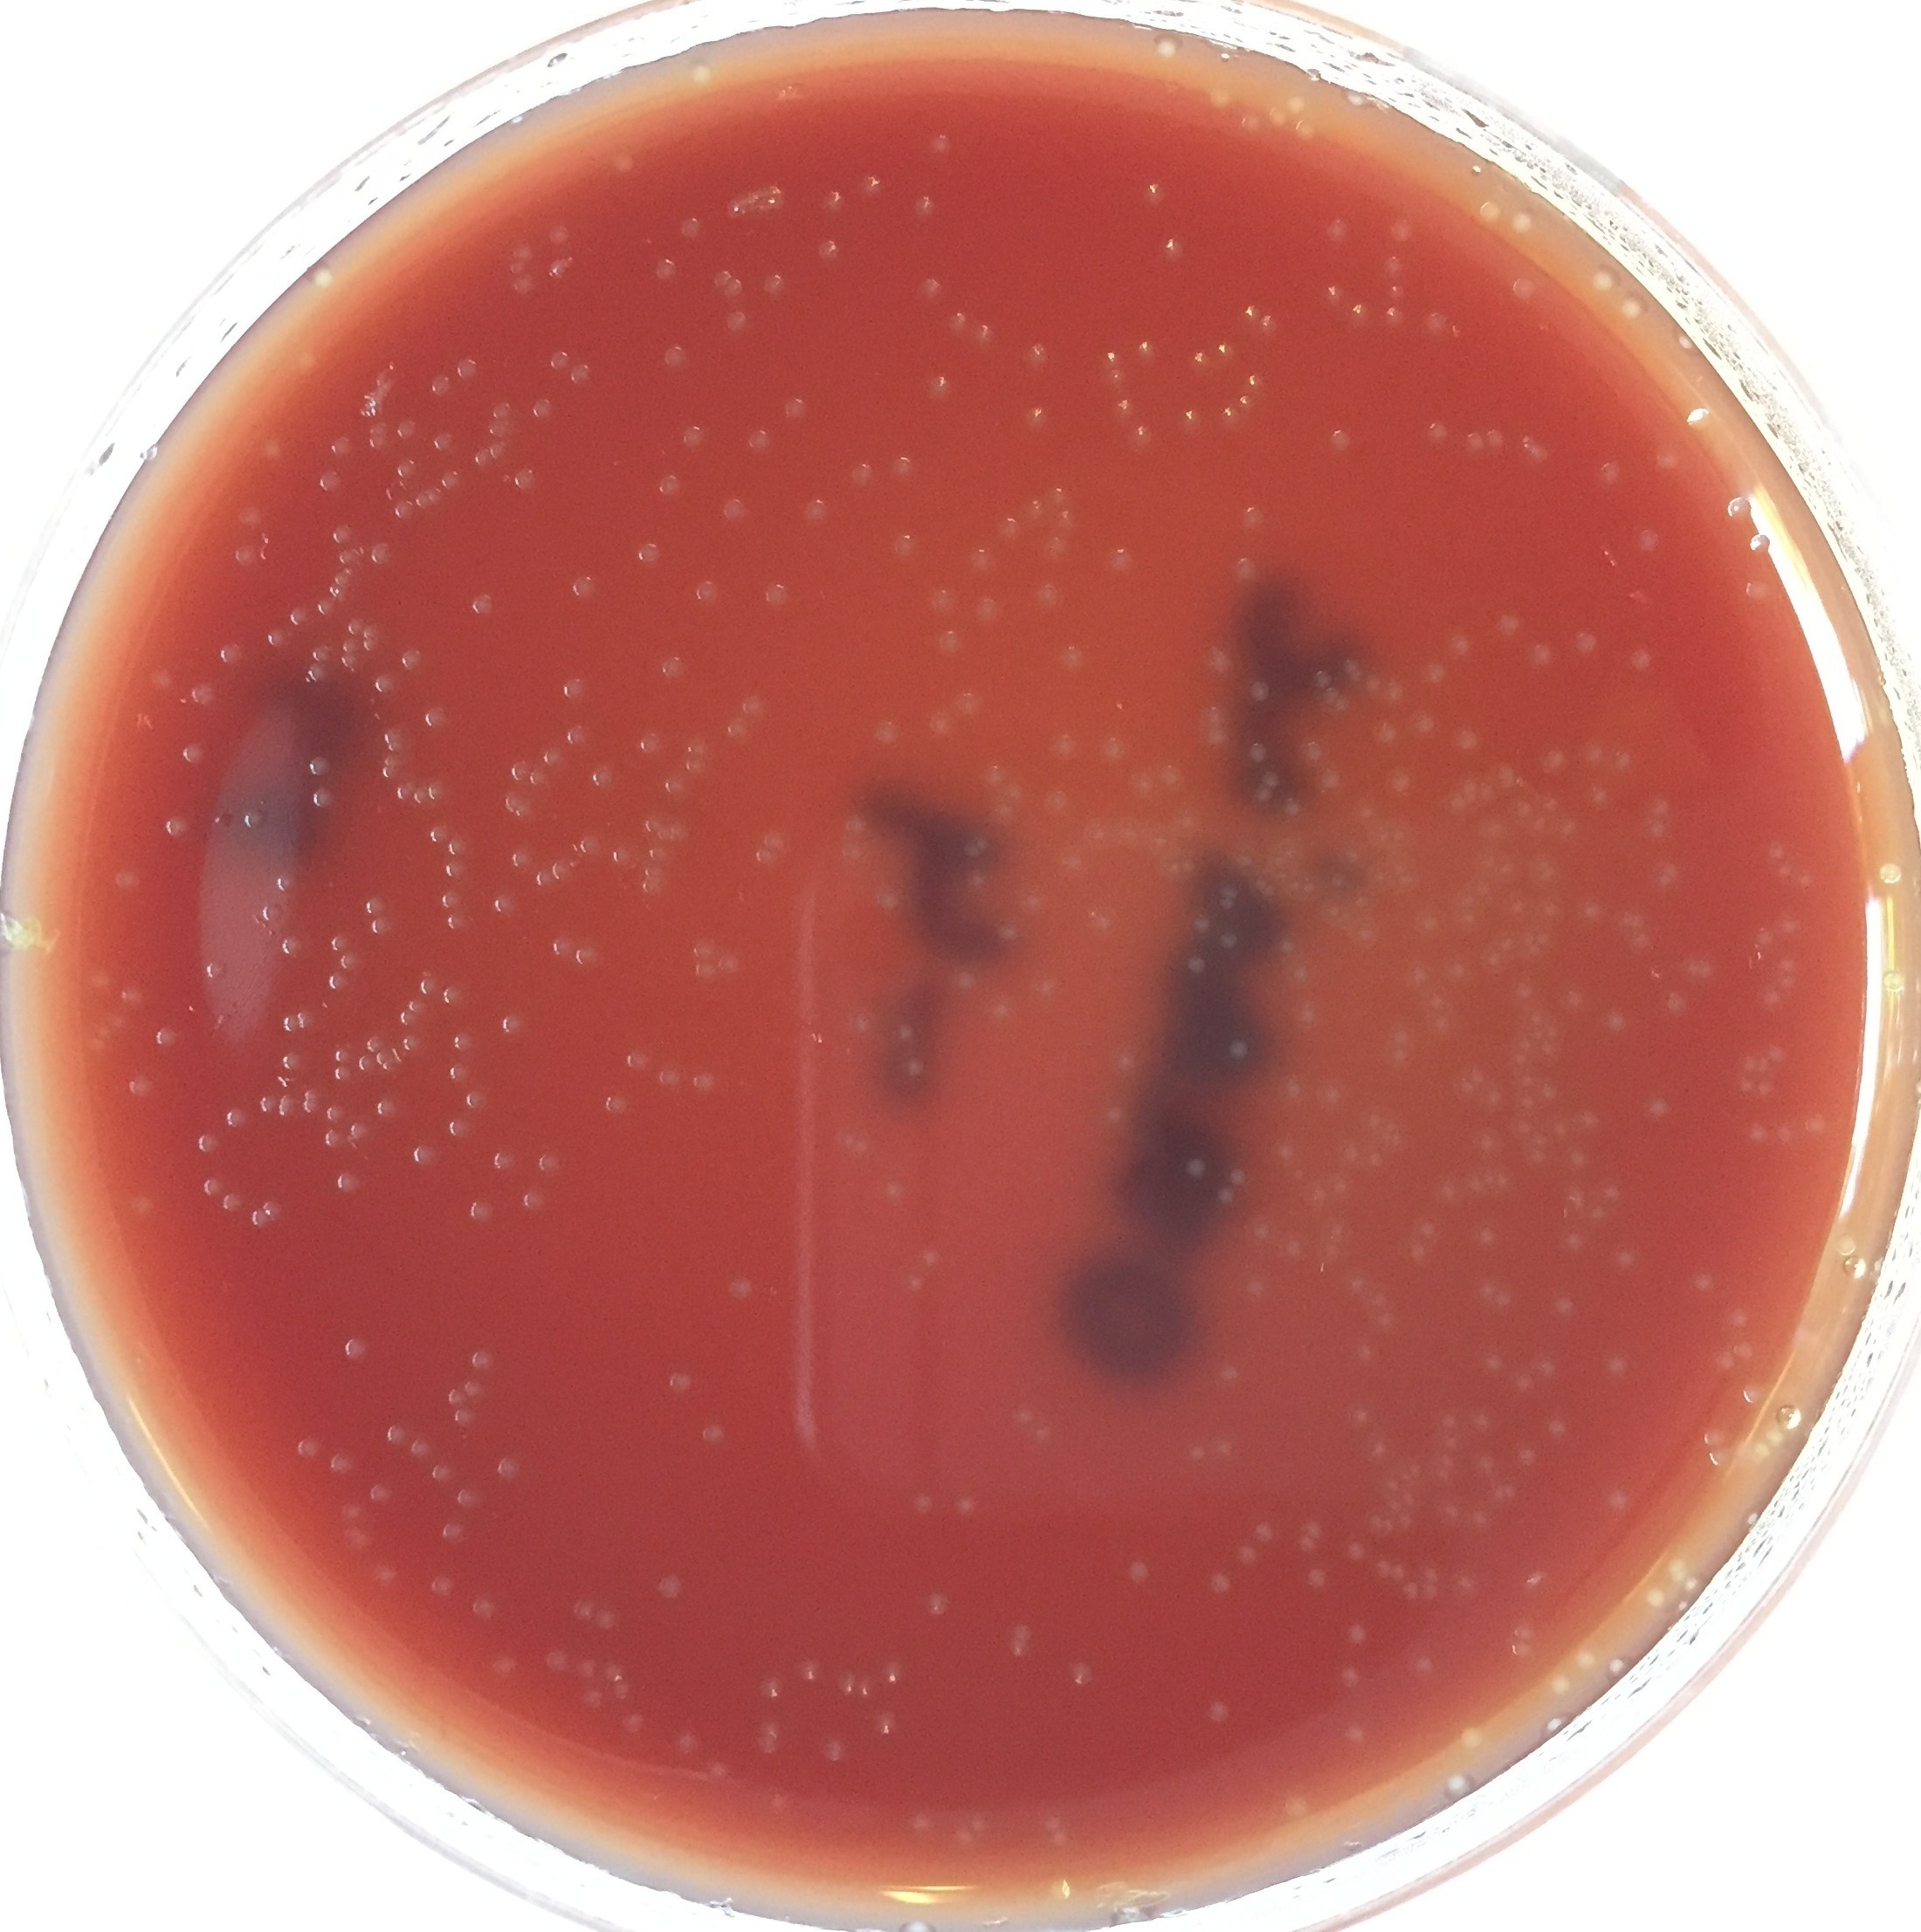sp10: (596, 137, 646, 192), (1048, 846, 1096, 882), (1040, 781, 1078, 822), (1534, 737, 1574, 776), (1481, 1478, 1522, 1517), (1573, 894, 1611, 933), (748, 1717, 786, 1756), (1488, 757, 1532, 790), (503, 787, 542, 823), (1041, 737, 1089, 767), (1200, 699, 1233, 741), (1444, 774, 1486, 808), (1530, 848, 1564, 890), (1288, 998, 1323, 1036), (128, 1184, 158, 1228), (756, 185, 793, 220), (1743, 574, 1782, 607), (716, 190, 749, 229), (1451, 1566, 1481, 1608), (141, 665, 176, 700), (1522, 934, 1560, 966), (1312, 1073, 1346, 1109), (1756, 984, 1787, 1021), (955, 867, 994, 897), (1620, 933, 1659, 962), (120, 975, 148, 1015), (1351, 915, 1384, 948), (1682, 952, 1713, 987), (763, 1782, 795, 1818), (1580, 739, 1610, 776), (1506, 977, 1543, 1006), (959, 834, 999, 860), (1414, 906, 1448, 938), (1288, 876, 1323, 906), (1277, 1072, 1307, 1107), (1161, 855, 1203, 880), (1300, 1513, 1325, 1555), (1082, 818, 1112, 852), (1745, 918, 1775, 952), (1617, 904, 1650, 934), (1318, 896, 1348, 929), (1351, 1339, 1381, 1372), (1458, 1721, 1492, 1751), (162, 811, 195, 841), (756, 1666, 785, 1701), (1420, 1562, 1443, 1605), (1247, 873, 1279, 903), (1648, 859, 1680, 889), (1504, 890, 1534, 922), (1328, 1174, 1358, 1205), (466, 1197, 496, 1228), (793, 1654, 825, 1684), (1022, 403, 1054, 433), (1105, 547, 1136, 577), (1589, 264, 1618, 296), (1685, 405, 1717, 435), (1494, 611, 1525, 640), (1441, 955, 1474, 984), (1406, 709, 1439, 737), (1203, 642, 1231, 676), (84, 957, 111, 992), (839, 808, 869, 838), (873, 885, 902, 915), (1583, 787, 1613, 816), (1698, 1418, 1727, 1448), (725, 1272, 755, 1302), (763, 579, 793, 609), (741, 692, 771, 721), (1325, 686, 1353, 718), (707, 1758, 735, 1789), (851, 1673, 880, 1705), (1506, 209, 1538, 238), (1033, 582, 1066, 609), (975, 760, 1010, 785), (1613, 746, 1643, 774), (1465, 1402, 1495, 1431), (922, 1589, 952, 1617), (1340, 1619, 1370, 1647), (127, 1072, 157, 1100), (927, 371, 955, 401), (568, 572, 598, 600), (1154, 33, 1182, 63), (1267, 102, 1296, 130), (1511, 273, 1539, 303), (1615, 296, 1645, 324), (1634, 524, 1662, 554), (1726, 493, 1754, 523), (1446, 632, 1476, 660), (1216, 878, 1242, 910), (1114, 825, 1140, 857), (987, 799, 1019, 825), (1099, 1100, 1126, 1131), (1560, 1181, 1587, 1212), (1277, 1233, 1304, 1265), (890, 533, 922, 560), (1126, 424, 1158, 450), (1384, 769, 1416, 795), (1518, 440, 1552, 465), (1648, 794, 1676, 822), (1205, 1698, 1233, 1726), (1282, 1795, 1311, 1823), (1024, 341, 1052, 370), (925, 709, 953, 737), (1406, 959, 1432, 989), (1508, 1638, 1538, 1665), (1546, 1672, 1576, 1698), (216, 640, 246, 667), (1573, 630, 1603, 656), (1742, 1378, 1768, 1408), (1173, 809, 1198, 841), (1777, 910, 1801, 941), (1777, 959, 1801, 991), (1469, 1087, 1506, 1109), (1325, 1218, 1356, 1242), (1706, 1441, 1731, 1473), (544, 255, 575, 280), (1156, 236, 1187, 260), (1479, 816, 1506, 845), (1539, 787, 1567, 813), (1384, 1119, 1413, 1145), (1272, 1135, 1298, 1163), (880, 1658, 906, 1686), (667, 1371, 695, 1397), (181, 739, 209, 765), (658, 472, 686, 498), (292, 348, 318, 377), (721, 496, 749, 523), (1179, 406, 1205, 435), (1323, 426, 1351, 452), (1041, 535, 1070, 561), (953, 690, 980, 718), (1478, 201, 1506, 227), (1128, 769, 1156, 795), (1457, 727, 1485, 753), (1446, 1070, 1471, 1100), (331, 1448, 355, 1478), (385, 1420, 410, 1450), (830, 1668, 855, 1698), (906, 1809, 936, 1833), (362, 892, 392, 917), (190, 681, 220, 706), (651, 255, 681, 280), (904, 1270, 934, 1295), (1520, 1570, 1550, 1594), (1376, 1313, 1399, 1344), (1145, 823, 1166, 857), (1472, 876, 1499, 903), (1562, 985, 1589, 1012), (542, 1645, 568, 1672), (820, 1737, 846, 1763), (873, 1709, 899, 1735), (781, 398, 807, 424), (746, 426, 772, 452), (1224, 1036, 1251, 1063), (1277, 794, 1304, 820), (1610, 1244, 1636, 1270), (1645, 1094, 1671, 1121), (1803, 1109, 1830, 1135), (1525, 813, 1550, 841), (1362, 1107, 1386, 1135), (1300, 1182, 1325, 1211), (1474, 1450, 1499, 1478), (600, 1659, 628, 1684), (1068, 1659, 1092, 1687), (1233, 1543, 1261, 1568), (1444, 1768, 1472, 1793), (911, 1492, 939, 1517), (860, 172, 885, 201), (663, 653, 688, 681), (1386, 216, 1414, 241), (1110, 396, 1138, 421), (1055, 646, 1084, 670), (1594, 459, 1622, 484), (904, 1056, 932, 1080), (1529, 642, 1557, 667), (1342, 1538, 1370, 1562), (1435, 1503, 1464, 1527), (1326, 866, 1349, 896), (1471, 1130, 1501, 1153), (1404, 1240, 1434, 1263), (427, 1573, 457, 1596), (841, 843, 867, 867), (1497, 857, 1522, 883), (1474, 945, 1499, 971), (343, 1336, 369, 1360), (373, 1562, 398, 1589), (491, 1654, 517, 1679), (656, 1575, 683, 1599), (1126, 1561, 1152, 1585), (280, 933, 306, 957), (241, 804, 267, 829), (318, 470, 345, 494), (394, 456, 420, 480), (512, 466, 537, 493), (491, 398, 515, 424), (917, 278, 941, 304), (802, 496, 827, 523), (890, 454, 917, 479), (871, 723, 897, 748), (1207, 83, 1233, 107), (1242, 303, 1267, 329), (1214, 405, 1240, 429), (1238, 505, 1265, 530), (1047, 486, 1071, 512), (1054, 507, 1078, 533), (1423, 311, 1448, 338), (1425, 419, 1450, 445), (1747, 530, 1771, 556), (996, 918, 1022, 943), (1186, 952, 1212, 977), (1627, 644, 1654, 669), (1231, 556, 1258, 581), (1291, 961, 1316, 987), (334, 545, 362, 568), (1339, 651, 1362, 679), (1645, 820, 1673, 843), (1541, 899, 1569, 922), (1495, 927, 1518, 955), (463, 1374, 486, 1402), (1340, 1661, 1363, 1689), (153, 1024, 181, 1047), (1238, 111, 1267, 134), (1460, 431, 1488, 454), (1652, 449, 1680, 472), (1112, 1049, 1140, 1072), (1318, 1240, 1346, 1263), (1284, 1163, 1314, 1184), (698, 574, 718, 605), (1476, 848, 1501, 873), (1365, 1288, 1390, 1313), (493, 1149, 517, 1174), (522, 1188, 547, 1212), (1031, 1422, 1055, 1446), (443, 984, 468, 1008), (399, 646, 424, 670), (237, 505, 262, 530), (681, 424, 705, 449), (693, 959, 718, 984), (1325, 218, 1349, 243), (1033, 973, 1057, 998), (1247, 679, 1272, 704), (1158, 764, 1182, 788), (1421, 662, 1446, 686), (1383, 679, 1407, 704), (1606, 1355, 1631, 1379), (1107, 732, 1129, 758), (1775, 862, 1798, 889), (1455, 910, 1481, 933), (1369, 869, 1391, 896), (1432, 1012, 1458, 1035), (259, 1198, 285, 1221), (412, 1142, 438, 1165), (368, 1482, 394, 1504), (969, 1811, 996, 1833), (1040, 1811, 1066, 1833), (1207, 1571, 1233, 1594), (1513, 1621, 1536, 1647), (1012, 1402, 1034, 1429), (500, 1014, 526, 1036), (308, 757, 334, 779), (591, 764, 614, 790), (723, 720, 749, 743), (658, 1066, 684, 1089), (1098, 348, 1124, 371), (1323, 282, 1346, 308), (850, 1010, 873, 1036), (1087, 911, 1114, 934), (1182, 1156, 1209, 1179), (1372, 720, 1395, 746), (1546, 1413, 1569, 1439), (1346, 836, 1367, 864), (257, 438, 285, 459), (753, 846, 783, 866), (382, 721, 405, 746), (1509, 797, 1532, 822), (1351, 795, 1376, 818), (1386, 1022, 1411, 1045), (1356, 1508, 1379, 1533), (195, 1133, 220, 1156), (223, 1107, 248, 1130), (336, 1170, 359, 1195), (537, 1151, 561, 1174), (405, 1436, 429, 1459), (456, 1487, 480, 1510), (610, 1679, 633, 1703), (700, 1422, 725, 1445), (259, 901, 283, 924), (369, 913, 392, 938), (551, 934, 575, 957), (573, 943, 598, 966), (552, 859, 575, 883), (610, 845, 635, 867), (234, 544, 257, 568), (331, 436, 355, 459), (549, 347, 572, 371), (313, 267, 338, 290), (913, 194, 936, 218), (971, 324, 994, 348), (693, 1070, 718, 1093), (1295, 116, 1319, 139), (1212, 341, 1237, 364), (1258, 313, 1281, 338), (1348, 303, 1372, 326), (1105, 366, 1128, 391), (1235, 392, 1258, 417), (1022, 498, 1047, 521), (953, 968, 976, 992), (1244, 1276, 1268, 1299), (1335, 1138, 1358, 1163), (1367, 1438, 1391, 1460), (1511, 1372, 1536, 1395), (1733, 1339, 1756, 1364), (1230, 850, 1256, 871), (1391, 823, 1413, 850), (1386, 1047, 1413, 1068), (494, 1457, 521, 1478), (575, 1654, 596, 1680), (542, 746, 568, 767), (454, 357, 480, 378), (663, 774, 690, 795), (1140, 185, 1166, 206), (1381, 306, 1407, 327), (1643, 1587, 1669, 1608), (892, 1022, 918, 1043), (1536, 1043, 1564, 1063), (1363, 1145, 1383, 1174), (1661, 991, 1684, 1014), (375, 1096, 398, 1119), (447, 1387, 470, 1409), (623, 1710, 646, 1733), (677, 1731, 700, 1754), (491, 892, 514, 915), (287, 605, 310, 628), (396, 417, 419, 440), (487, 438, 510, 461), (679, 216, 702, 239), (723, 311, 746, 334), (822, 190, 844, 213), (639, 732, 661, 755), (1286, 93, 1309, 116), (1242, 370, 1265, 392), (997, 517, 1020, 540), (966, 547, 989, 570), (938, 628, 960, 651), (1481, 428, 1504, 450), (1245, 739, 1268, 762), (1726, 1306, 1749, 1328), (1576, 1110, 1599, 1133), (1538, 1080, 1562, 1101), (1599, 1181, 1624, 1202), (297, 1436, 318, 1460), (1010, 1622, 1034, 1643), (1340, 1724, 1365, 1745), (510, 848, 535, 869), (114, 869, 139, 890), (471, 443, 493, 468), (533, 396, 554, 421), (853, 461, 874, 486), (563, 677, 588, 699), (765, 831, 790, 852), (1136, 340, 1161, 361), (1189, 348, 1210, 373), (975, 598, 999, 619), (1189, 911, 1214, 933), (1212, 1182, 1237, 1204), (1362, 670, 1383, 695), (1305, 1566, 1326, 1591), (1603, 1483, 1624, 1508), (1437, 1408, 1458, 1432), (1486, 1286, 1511, 1307), (1536, 1357, 1560, 1378), (1756, 1077, 1777, 1101), (1557, 815, 1583, 834), (1794, 873, 1821, 892), (276, 1093, 296, 1119), (1256, 1519, 1275, 1545), (310, 788, 336, 808), (373, 540, 392, 567), (818, 236, 837, 262), (625, 1050, 651, 1070), (1766, 836, 1787, 859), (1511, 1050, 1532, 1073), (1516, 1093, 1538, 1116), (222, 1191, 245, 1212), (281, 1050, 303, 1073), (452, 1031, 475, 1052), (471, 1350, 493, 1372), (431, 1462, 454, 1483), (595, 1608, 616, 1631), (1006, 1638, 1029, 1659), (1187, 1441, 1210, 1462), (1219, 1362, 1240, 1385), (405, 996, 427, 1017), (533, 869, 556, 890), (487, 421, 510, 442), (568, 362, 591, 384), (665, 343, 686, 366), (946, 311, 968, 334), (637, 542, 660, 563), (691, 941, 714, 962), (716, 952, 739, 973), (881, 1179, 904, 1200), (920, 1249, 943, 1270), (1386, 283, 1409, 304), (929, 589, 952, 611), (1673, 331, 1696, 352), (1606, 1654, 1629, 1675), (987, 1001, 1010, 1022), (1022, 890, 1043, 913), (1321, 765, 1342, 788), (1467, 1504, 1488, 1527), (1346, 1272, 1369, 1293), (1217, 929, 1240, 950), (456, 1406, 475, 1431), (473, 1596, 493, 1621), (573, 1598, 593, 1622), (424, 707, 449, 727), (427, 822, 447, 846), (547, 225, 572, 245), (603, 1094, 628, 1114), (1381, 257, 1406, 276), (1465, 1172, 1483, 1198), (1369, 829, 1390, 850), (1527, 1144, 1548, 1165), (1439, 1452, 1453, 1483), (1397, 1513, 1418, 1534), (202, 1177, 223, 1198), (450, 1117, 471, 1138), (955, 1496, 976, 1517), (447, 910, 468, 931), (385, 750, 406, 771), (447, 836, 468, 857), (315, 596, 336, 618), (473, 591, 494, 612), (394, 498, 415, 519), (440, 468, 461, 489), (422, 484, 443, 505), (850, 1135, 871, 1156), (1560, 1230, 1581, 1251), (1736, 1073, 1759, 1093), (1585, 1207, 1608, 1226), (442, 1520, 464, 1540), (1413, 1654, 1435, 1673), (417, 975, 436, 998), (566, 723, 586, 746), (267, 625, 287, 648), (334, 570, 357, 589), (433, 431, 456, 450), (427, 375, 450, 394), (1437, 1179, 1457, 1202), (1302, 743, 1325, 762), (1260, 771, 1282, 790), (1349, 1404, 1372, 1423), (1692, 1270, 1712, 1293), (1481, 1351, 1504, 1371), (1476, 1225, 1499, 1244), (1749, 1123, 1771, 1142), (1351, 894, 1376, 911), (1497, 1168, 1515, 1193), (303, 667, 327, 684), (510, 276, 535, 294), (1545, 1021, 1564, 1042), (255, 1094, 276, 1114), (324, 1126, 343, 1147), (449, 1061, 468, 1082), (399, 1033, 419, 1054), (1214, 1438, 1235, 1457), (206, 959, 227, 978), (329, 970, 348, 991), (340, 950, 359, 971), (331, 934, 352, 954), (440, 890, 461, 910), (581, 834, 602, 853), (274, 871, 294, 892), (507, 257, 528, 276), (725, 278, 744, 299), (763, 273, 785, 292), (1668, 1557, 1689, 1577), (1228, 1165, 1249, 1184), (1553, 1293, 1574, 1313), (1425, 989, 1448, 1006), (1400, 1490, 1423, 1508), (348, 1121, 371, 1138), (510, 758, 528, 781), (686, 741, 709, 758), (1251, 1221, 1274, 1239), (1279, 938, 1302, 955), (1471, 1059, 1485, 1087), (1395, 875, 1420, 890), (1379, 1517, 1395, 1541), (1518, 1072, 1538, 1091), (1515, 1117, 1534, 1137), (1441, 1431, 1460, 1450), (250, 1209, 269, 1228), (324, 1103, 343, 1123), (338, 1499, 357, 1519), (584, 1687, 603, 1707), (296, 1010, 315, 1029), (445, 862, 464, 882), (375, 674, 394, 693), (332, 523, 352, 542), (341, 635, 361, 655), (327, 581, 347, 600), (931, 134, 950, 153), (1400, 1580, 1420, 1599), (1312, 669, 1332, 688), (1416, 1219, 1435, 1239), (359, 1052, 376, 1073), (528, 767, 549, 785), (313, 642, 331, 663), (340, 651, 357, 672), (369, 419, 391, 436), (640, 878, 661, 896), (1545, 1714, 1562, 1735), (1253, 787, 1274, 804), (1606, 1010, 1624, 1031), (1567, 1147, 1585, 1168), (1483, 1167, 1497, 1191), (1743, 1056, 1763, 1073), (1534, 1128, 1552, 1147), (1384, 1475, 1404, 1492), (466, 1091, 486, 1109), (334, 1061, 352, 1080), (364, 1033, 382, 1052), (1775, 1124, 1794, 1142), (1766, 1045, 1786, 1063), (398, 1010, 419, 1026), (714, 267, 730, 289), (684, 757, 705, 772), (1376, 1559, 1391, 1580), (1550, 1117, 1566, 1138), (1515, 1035, 1532, 1052), (1515, 1448, 1532, 1466), (644, 815, 663, 831), (646, 864, 665, 880), (368, 435, 389, 449), (647, 846, 668, 860), (1409, 1455, 1421, 1478), (1527, 1010, 1543, 1028), (382, 765, 398, 783), (427, 781, 445, 797), (347, 616, 362, 633), (362, 637, 380, 653), (415, 493, 431, 510), (1390, 1561, 1406, 1578), (281, 1014, 296, 1033), (413, 787, 427, 806), (1386, 860, 1402, 876), (301, 1100, 318, 1114), (375, 1049, 389, 1066), (398, 785, 412, 801), (839, 1131, 853, 1147), (1530, 1028, 1545, 1042), (1386, 1497, 1400, 1511), (304, 1086, 317, 1101), (336, 1050, 350, 1061)
